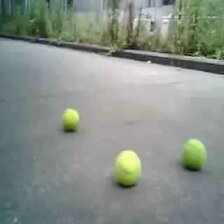tennis: (114, 151, 142, 184), (182, 138, 207, 167), (62, 109, 79, 132)
